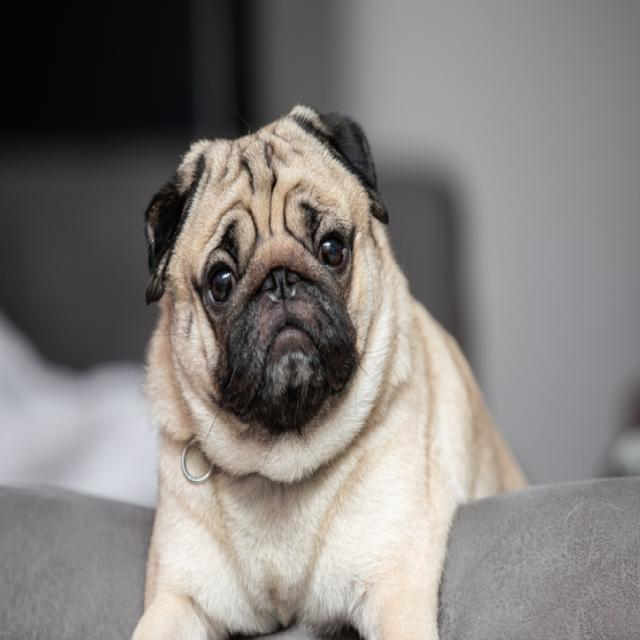dog: (94, 79, 577, 640)
